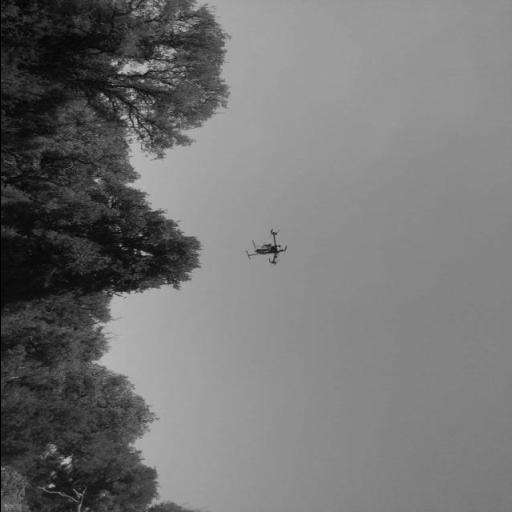uav: (240, 226, 294, 284)
